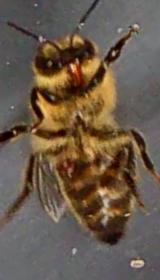varroa_mite: (40, 150, 86, 180)
